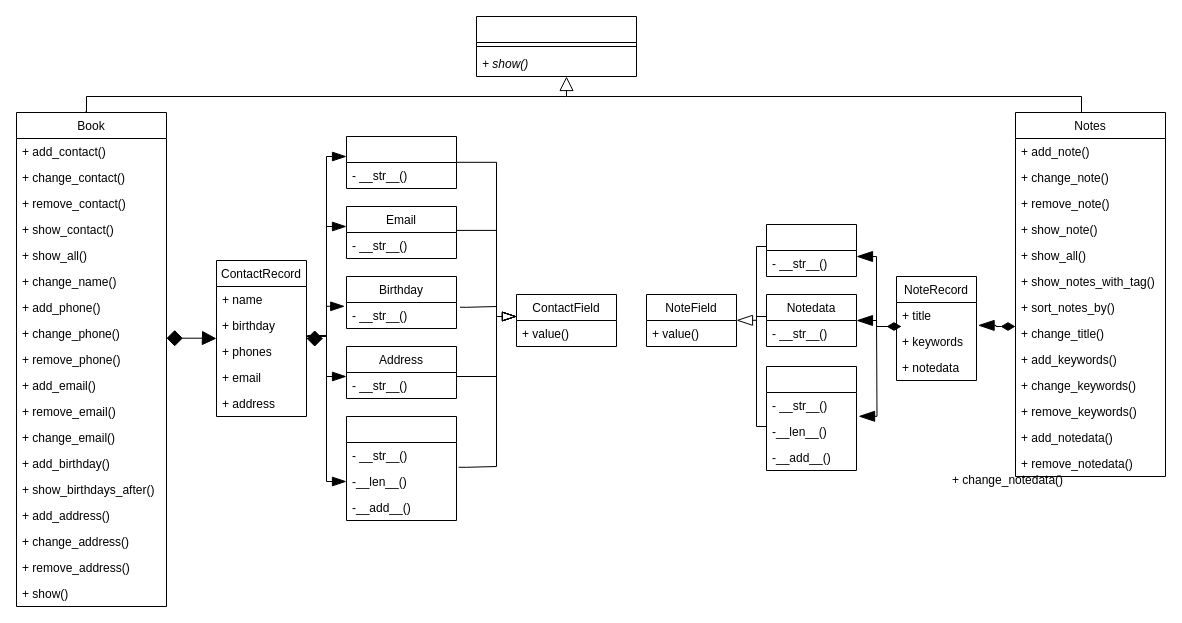
This 1182x623 diagram has some shape labels left out. Each missing label, with the box of its shape:
Keywords: (766, 366, 856, 470)
Name: (346, 136, 456, 188)
Phones: (346, 416, 456, 520)
Show_in_Console: (476, 16, 636, 76)
Title: (766, 224, 856, 276)
